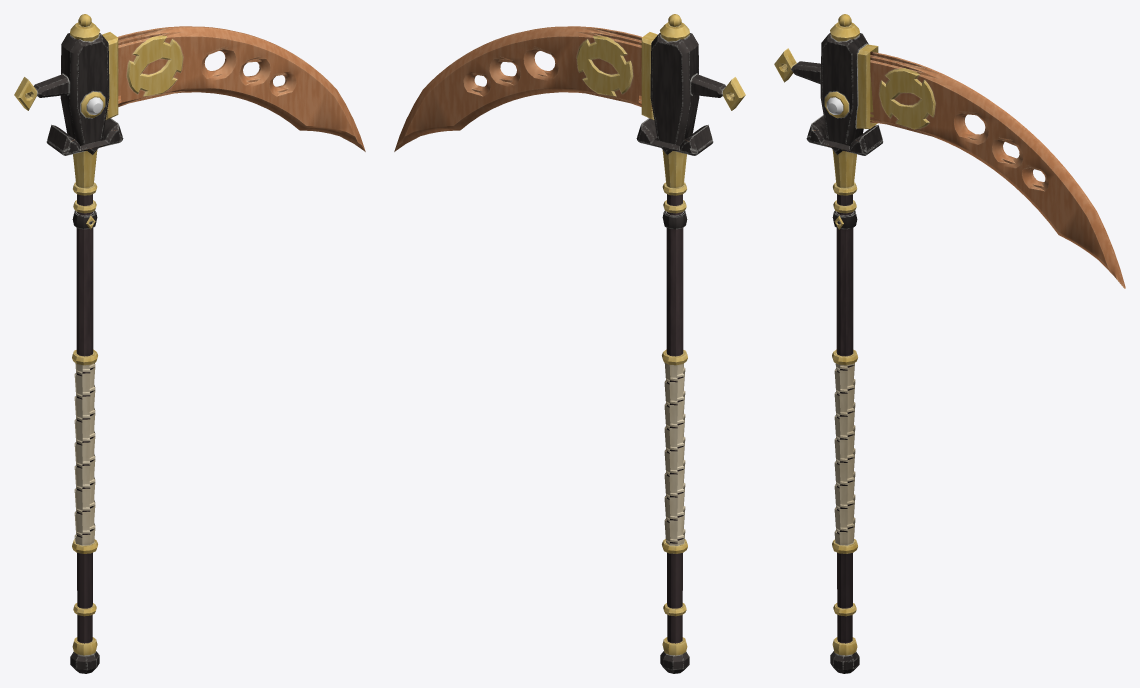
File: Ninth Life.fbx
3 views of the same model, side by side, from view 1: azimuth 30°, elevation 25°; view 2: azimuth 150°, elevation 25°; view 3: azimuth 330°, elevation 25° (orthographic).
Visible parts, largest first — view 1: Ninth Life_Body; view 2: Ninth Life_Body; view 3: Ninth Life_Body.
Boxes of the visible parts, box(x1,y1,x2,y2) form: Ninth Life_Body: box(14, 14, 365, 673); Ninth Life_Body: box(394, 14, 745, 673); Ninth Life_Body: box(774, 14, 1125, 673).
Size of the model in its own units: 3.47 by 6.23 by 0.39.
